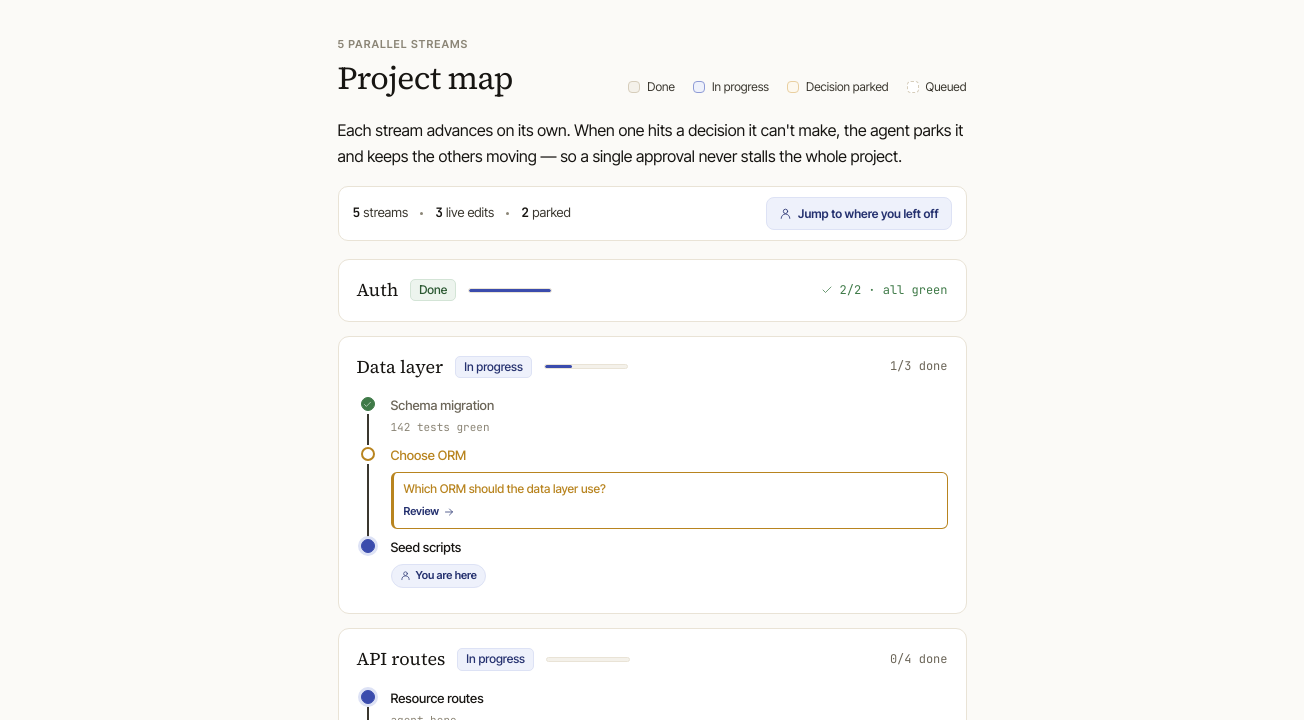
Test: ProjectMap › opens the proposal when a blocked task node is clicked
Note: The parked node's accessible name now carries the decision question.
Click the button "Choose ORM Which ORM should the data layer use? Review". click: {"x": 669, "y": 487}
box: [390,445,948,529]
(page scrolled)
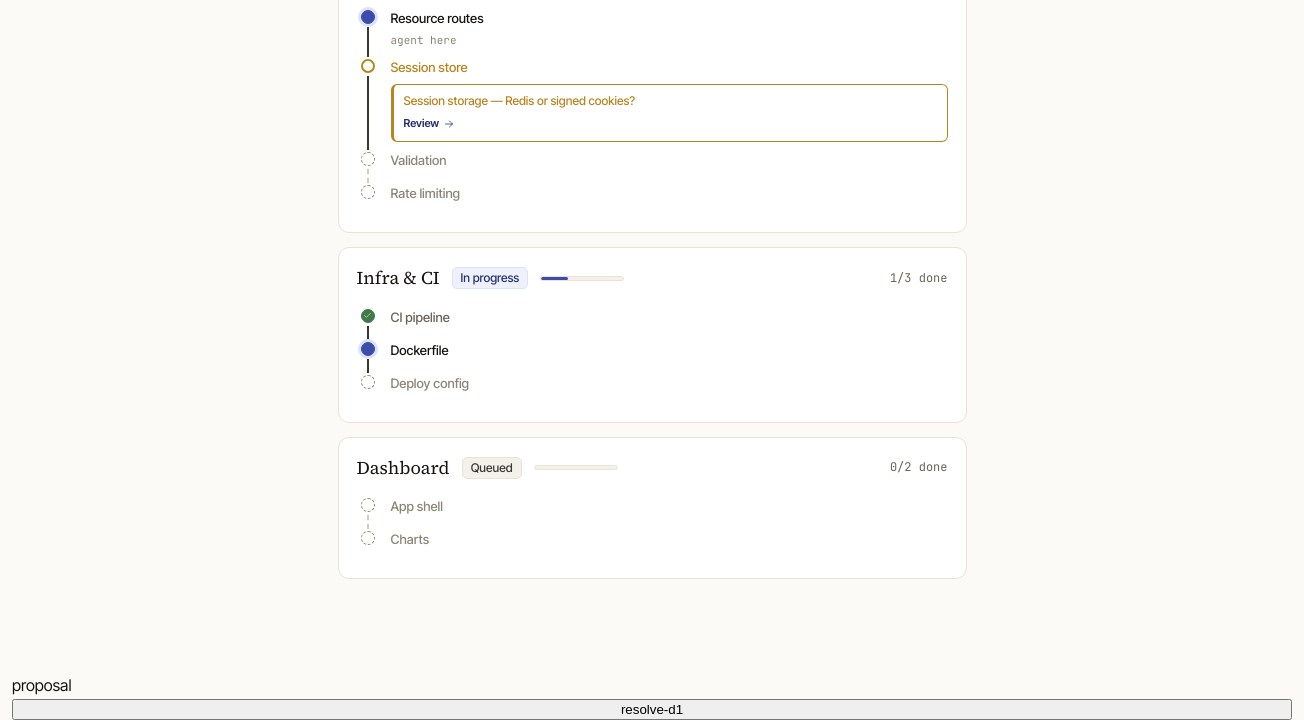
Expected: the text with test id "view" reads "proposal", [12,675,71,695]
